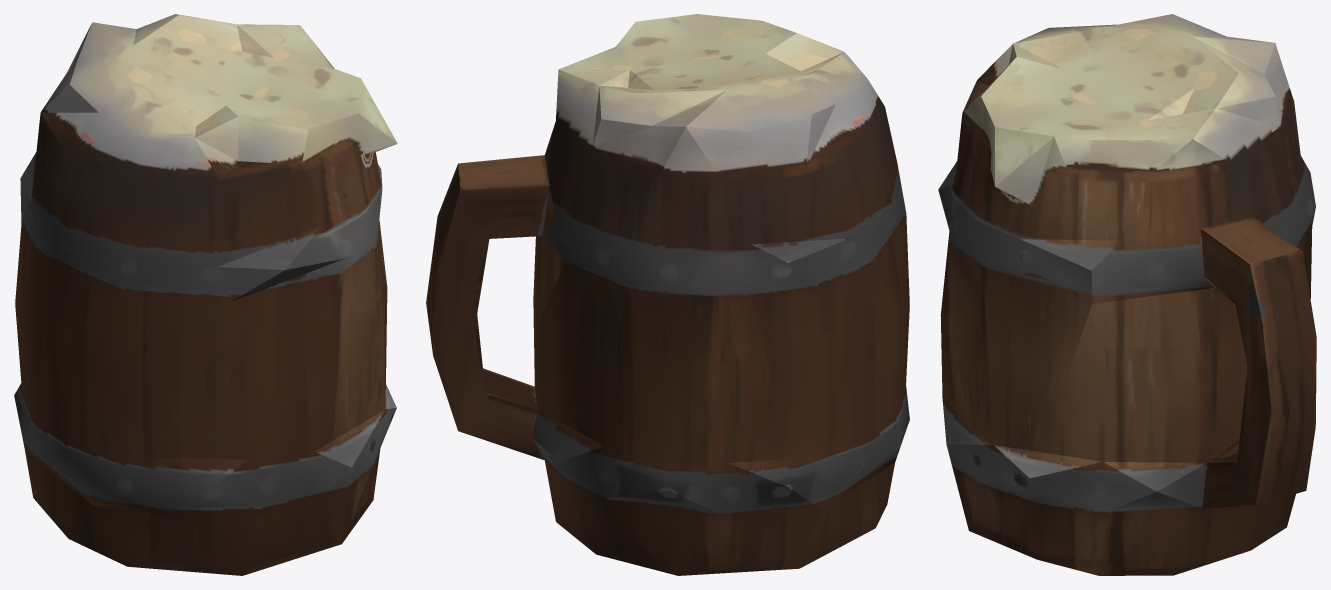
The model's file is mug_lod0.glb.
3 renders of one model, left to right at view 1: azimuth 30°, elevation 25°; view 2: azimuth 150°, elevation 25°; view 3: azimuth 270°, elevation 25°, orthographic.
Parts seen in each view (by area): view 1: low; view 2: low; view 3: low.
Part boxes in pixels (bbox=[...]): low: bbox=[14, 14, 397, 575]; low: bbox=[426, 14, 909, 575]; low: bbox=[938, 14, 1316, 575].
Size of the model in its own units: 0.1498 by 0.1677 by 0.1271.
Materials: 1 (1 with a texture image).
